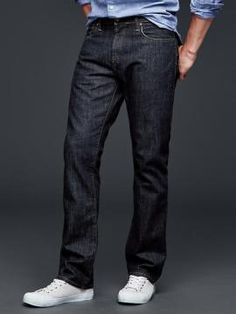jeans: (46, 16, 186, 283)
